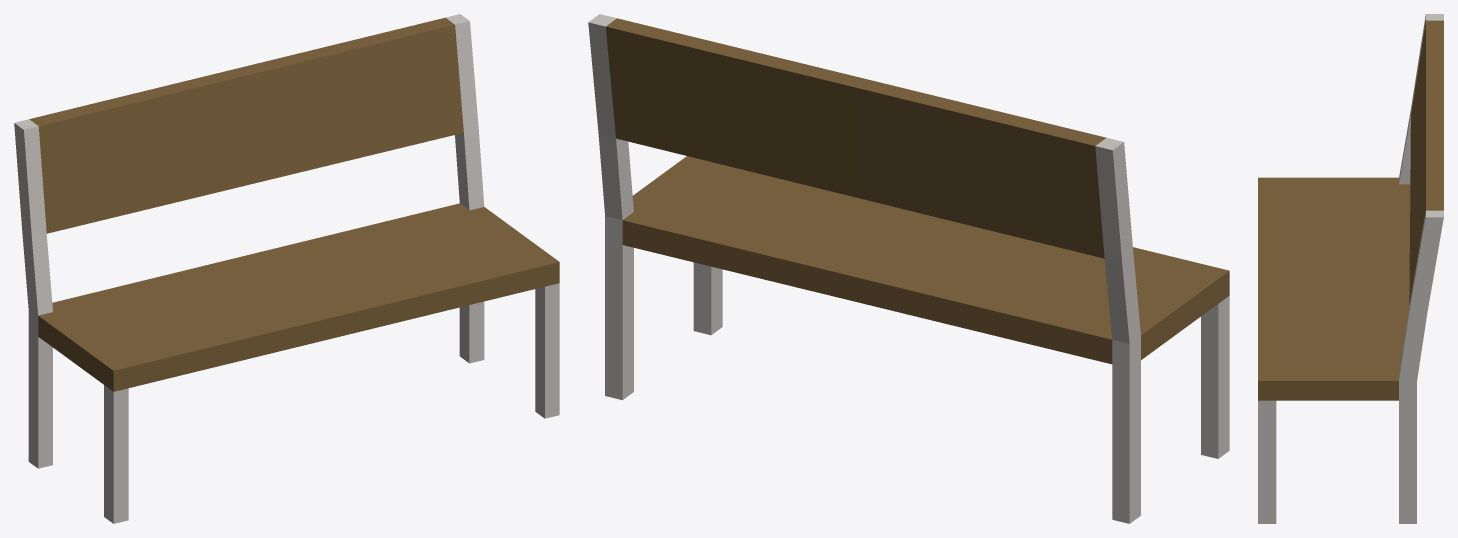
File: Bench.fbx
3 views of the same model, side by side, from view 1: azimuth 30°, elevation 25°; view 2: azimuth 150°, elevation 25°; view 3: azimuth 270°, elevation 25° (orthographic). The views are drawn at different scales.
Visible parts, largest first — view 1: pCube1; view 2: pCube1; view 3: pCube1.
Boxes of the visible parts, box(x1,y1,x2,y2) form: pCube1: box(14, 14, 559, 523); pCube1: box(588, 14, 1229, 523); pCube1: box(1258, 14, 1443, 523).
Size of the model in its own units: 2 by 1.41 by 0.7726.
